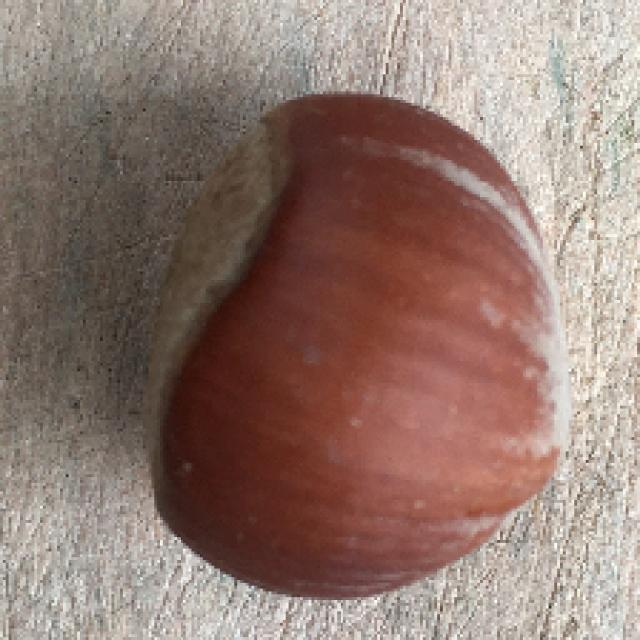qualityHazelnut: (137, 87, 579, 600)
